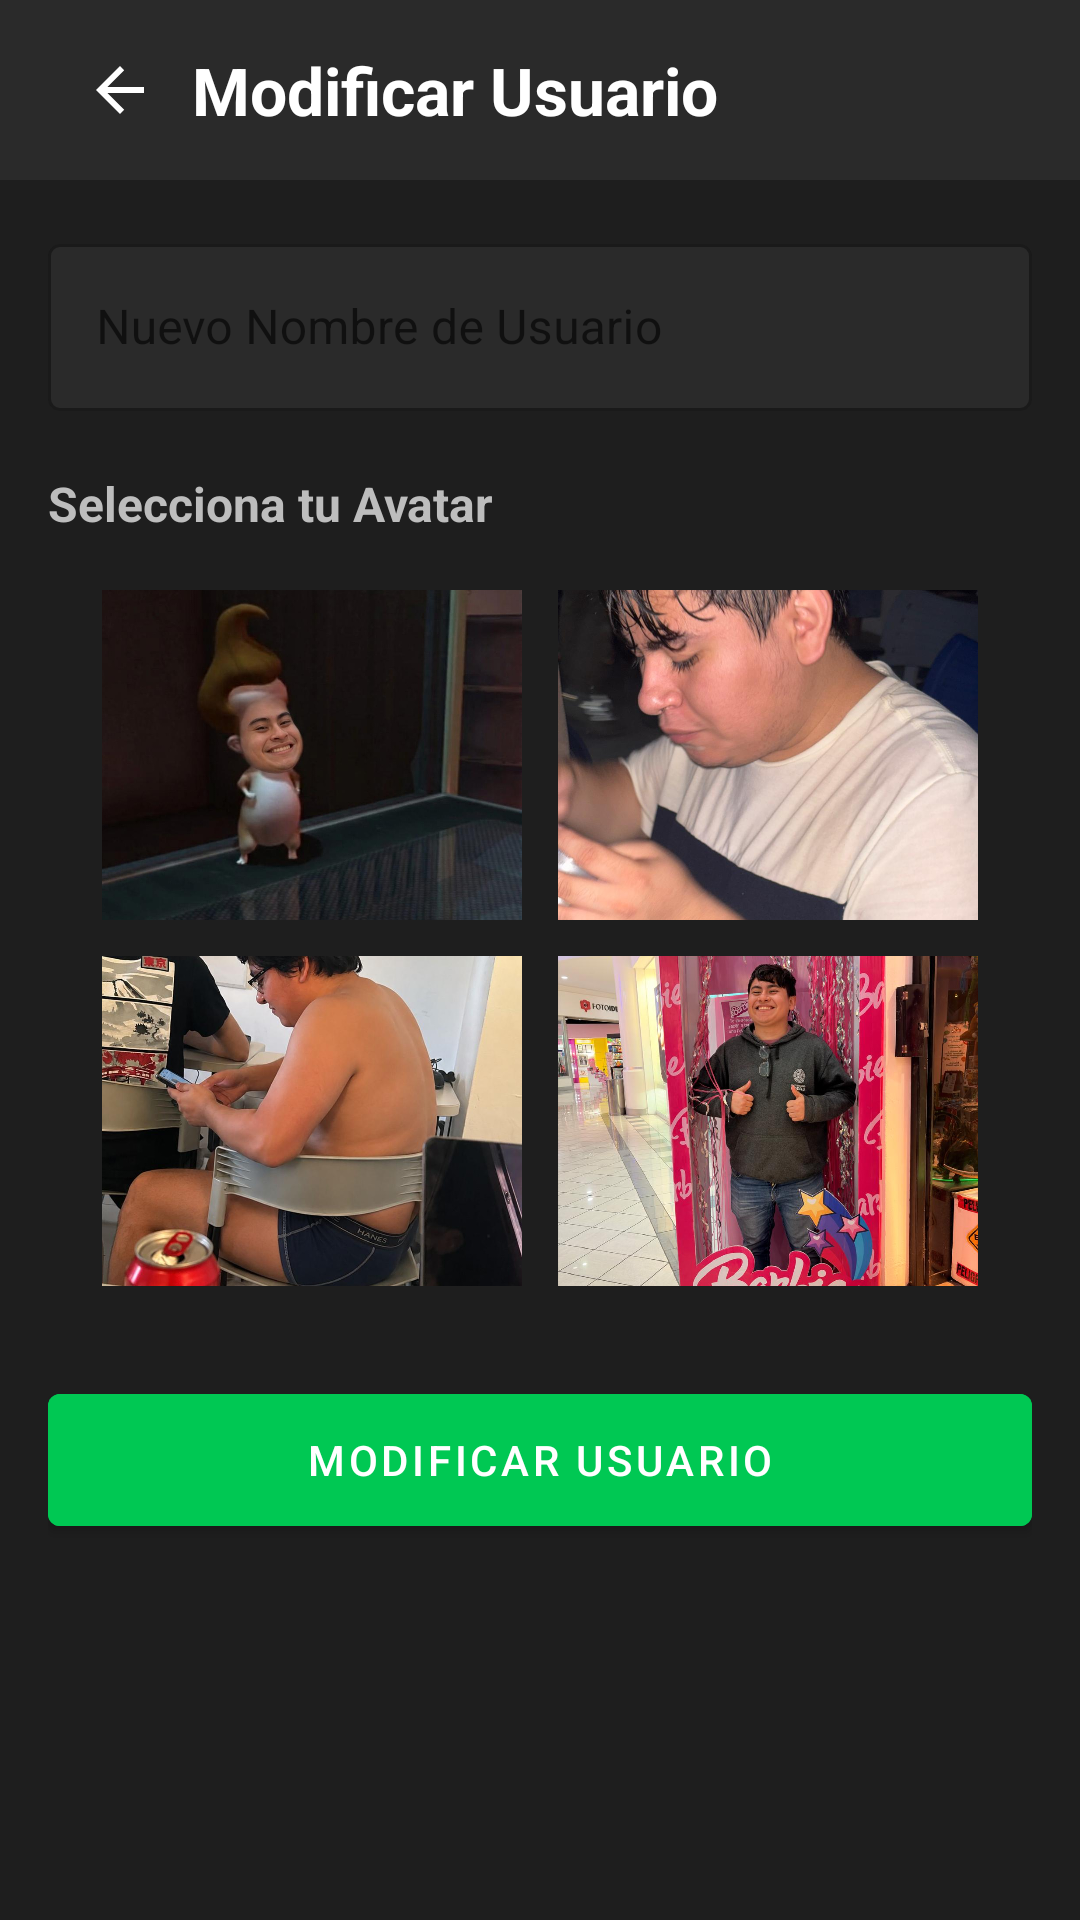

Screen size 1080x1920. Icon name, then its center in pixels as point (x, y):
Volver: point (120, 90)
